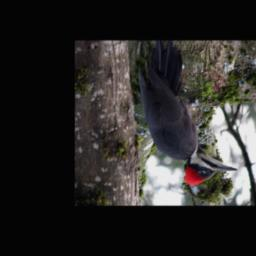Woodpecker: (134, 45, 239, 187)
